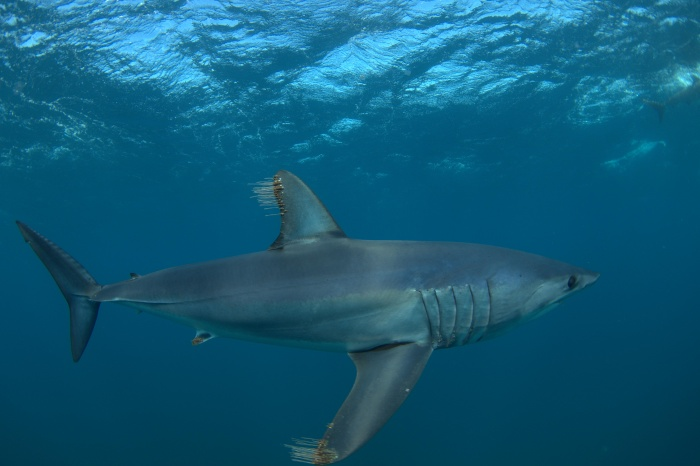Mako: (13, 169, 620, 466)
